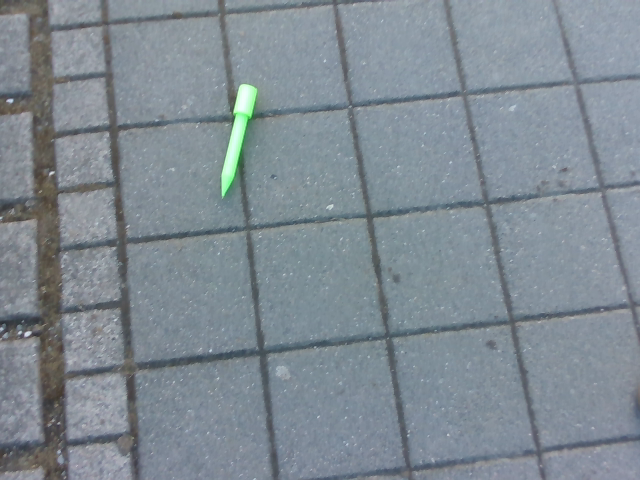Probe: (216, 80, 265, 203)
